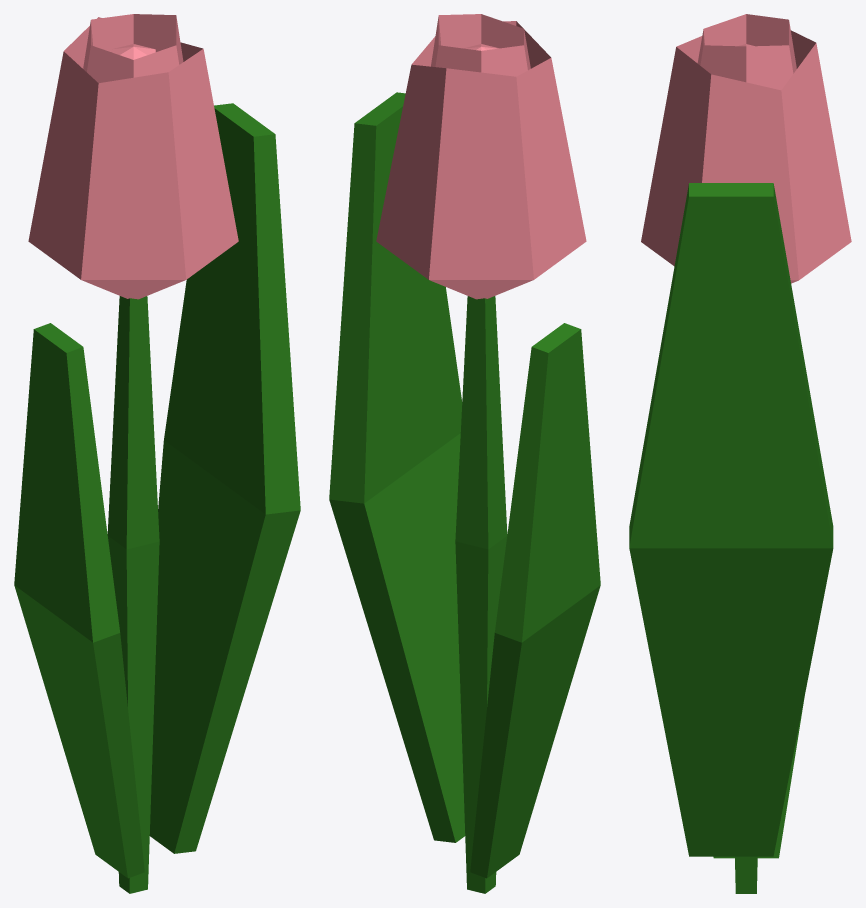
File: item_tulip.fbx
The picture shows the model from 3 angles, left to right: view 1: azimuth 30°, elevation 25°; view 2: azimuth 150°, elevation 25°; view 3: azimuth 270°, elevation 25°; orthographic projection.
Visible parts, largest first — view 1: ItemTulip; view 2: ItemTulip; view 3: ItemTulip.
Boxes of the visible parts, x1,y1,x2,y2 form: ItemTulip: (14,14,300,893); ItemTulip: (329,14,600,893); ItemTulip: (629,14,851,893).
Size of the model in its own units: 216 by 905 by 211.
